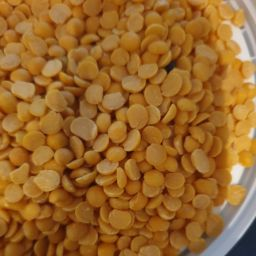Pigeon Pea(toor daal): (4, 4, 256, 256), (31, 29, 231, 189), (40, 66, 176, 197)
